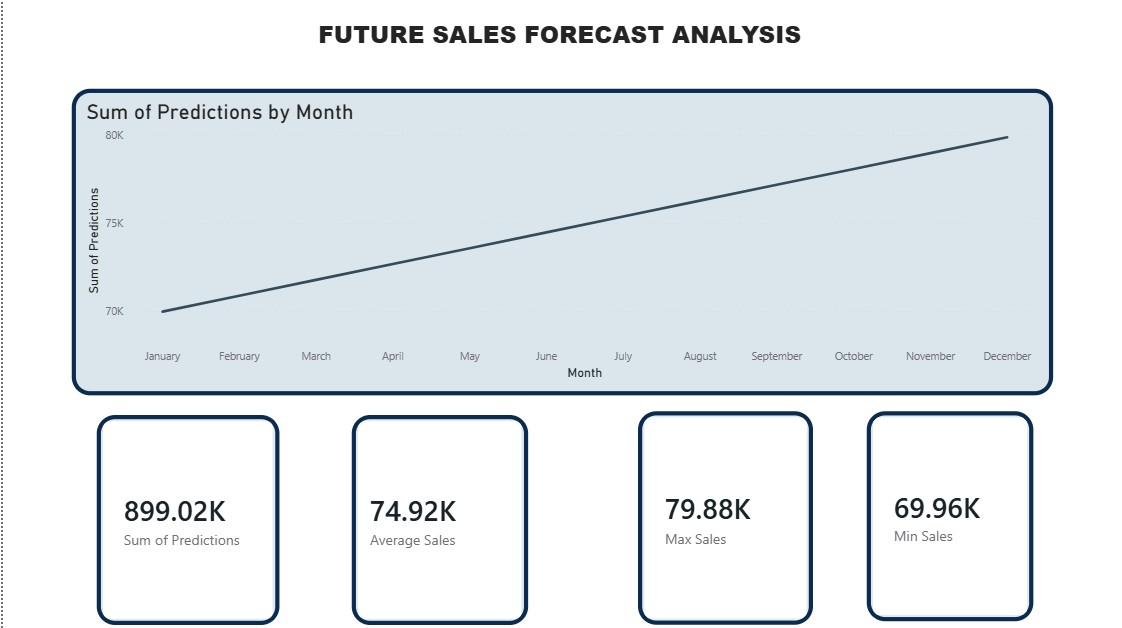

The page's visual inventory and layout, read from the dashboard file:
{"tool":"powerbi","page":{"name":"Page 2","canvas":[1280,720],"ordinal":1},"visuals":[{"type":"lineChart","fields":{"Category":["forecast_results.Future Date.Variation.Date Hierarchy.Month","forecast_results.Future Date.Variation.Date Hierarchy.Day"],"Y":["Sum(forecast_results.Predictions)"]},"box":[78.6,101.4,1121.4,350],"z":0},{"type":"textbox","box":[118.6,14.3,1044.3,72.9],"z":1000},{"type":"cardVisual","fields":{"Data":["Sum(forecast_results.Predictions)"]},"box":[107.1,474.3,208.6,240],"z":2000},{"type":"cardVisual","fields":{"Data":["forecast_results.Average Sales"]},"box":[398.6,474.3,201.4,240],"z":3000},{"type":"cardVisual","fields":{"Data":["forecast_results.Max Sales"]},"box":[725.7,470,200,244.3],"z":4000},{"type":"cardVisual","fields":{"Data":["forecast_results.Min Sales"]},"box":[987.1,470,190,240],"z":5000}]}

Visuals, with their boxes in screenshot pixels (x1, y1, x2, y2), scaled from the page's 1280x720 canvas onto the 1122x628 screenshot:
lineChart - forecast_results.Future Date.Variation.Date Hierarchy.Month x forecast_results.Future Date.Variation.Date Hierarchy.Day: BBox(69, 88, 1052, 394)
textbox: BBox(104, 12, 1019, 76)
cardVisual - Sum(forecast_results.Predictions): BBox(94, 414, 277, 623)
cardVisual - forecast_results.Average Sales: BBox(349, 414, 526, 623)
cardVisual - forecast_results.Max Sales: BBox(636, 410, 811, 623)
cardVisual - forecast_results.Min Sales: BBox(865, 410, 1032, 619)
